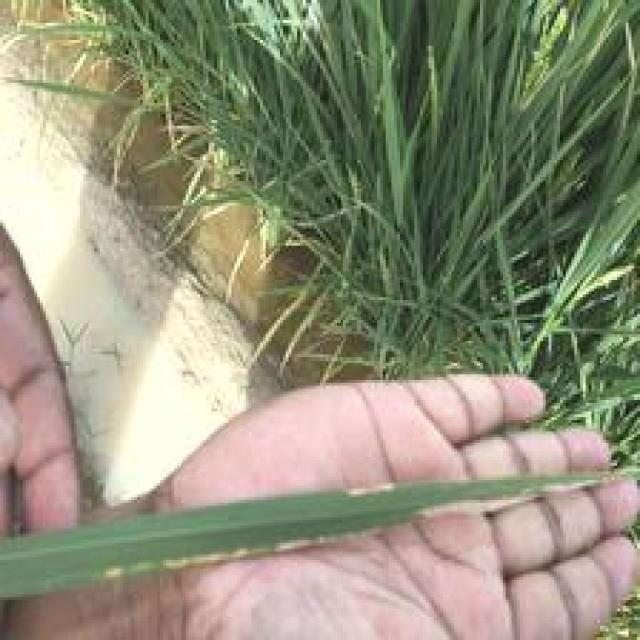Rice_Bacterial_Blight: (88, 517, 420, 580), (331, 466, 446, 503)
